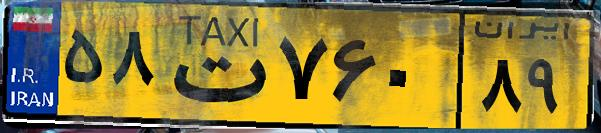0: (385, 28, 445, 110)
5: (57, 26, 110, 100)
6: (330, 28, 385, 110)
7: (270, 28, 330, 110)
8: (475, 38, 525, 113), (110, 28, 158, 98)
9: (525, 38, 570, 115)
ت: (158, 12, 270, 120)
